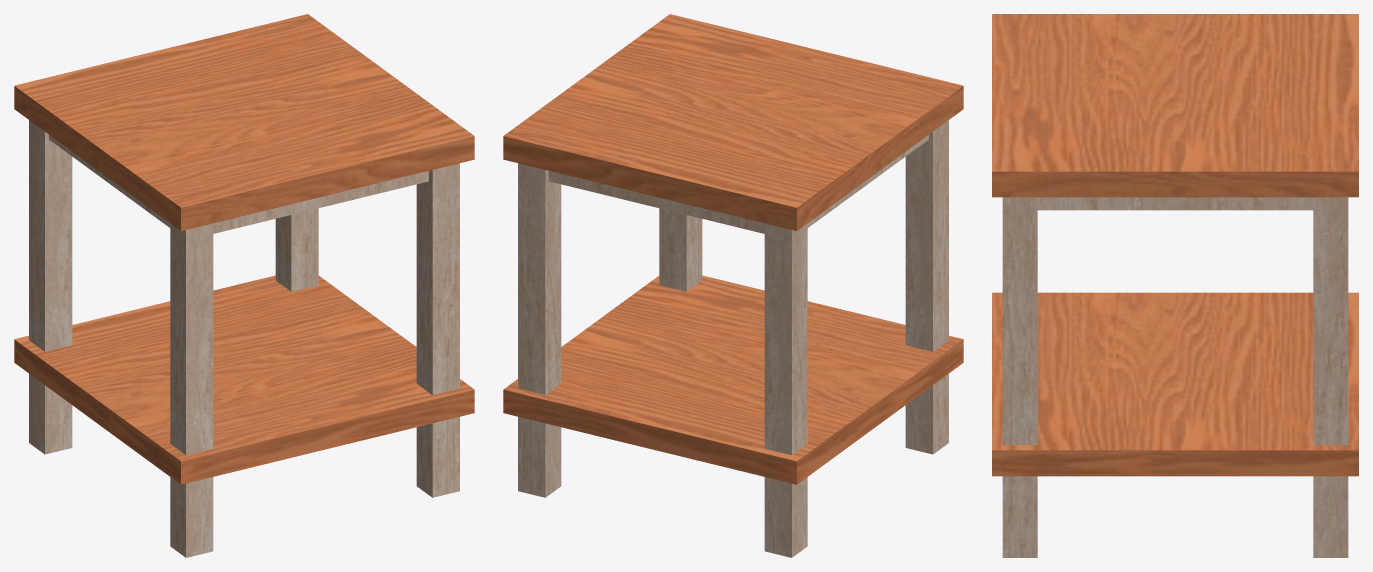
File: Table_39.glb
3 renders of one model, left to right at view 1: azimuth 30°, elevation 25°; view 2: azimuth 150°, elevation 25°; view 3: azimuth 270°, elevation 25°, orthographic. The views are drawn at different scales.
Parts seen in each view (by area): view 1: Table_39; view 2: Table_39; view 3: Table_39.
Part boxes in pixels (box(x1,y1,x2,y2)): Table_39: box(14, 14, 474, 557); Table_39: box(503, 14, 963, 557); Table_39: box(992, 14, 1358, 557).
Bounding box in the file's own units: 0.6049 × 0.7008 × 0.5951.
Materials: 2 (2 with a texture image).
